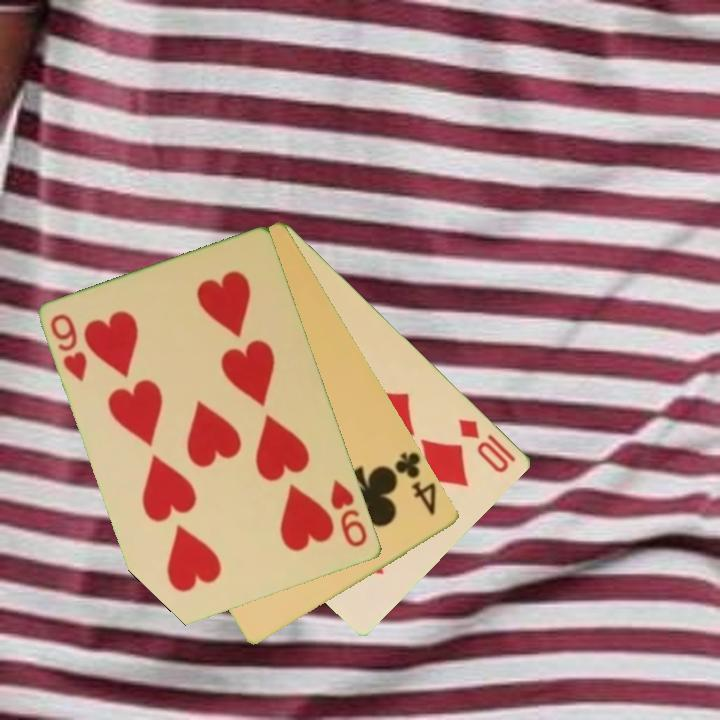10d: (455, 415, 513, 476)
4c: (391, 447, 440, 518)
9h: (47, 310, 91, 386), (327, 476, 371, 551)
